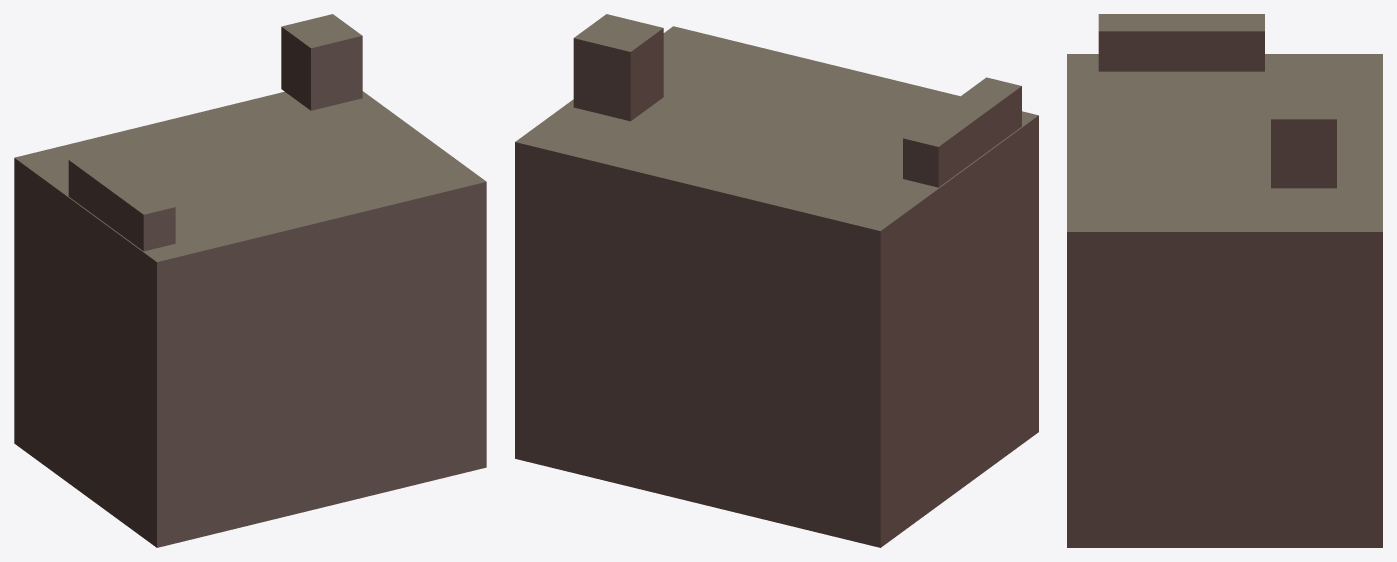
File: ns-main-street.far-facades-v3.lod2.glb
3 views of the same model, side by side, from view 1: azimuth 30°, elevation 25°; view 2: azimuth 150°, elevation 25°; view 3: azimuth 270°, elevation 25° (orthographic). The views are drawn at different scales.
Parts seen in each view (by area): view 1: ns-main-street; view 2: ns-main-street; view 3: ns-main-street.
Part boxes in pixels (x1=…): ns-main-street: x1=14, y1=14, x2=486, y2=547; ns-main-street: x1=515, y1=14, x2=1038, y2=547; ns-main-street: x1=1067, y1=14, x2=1382, y2=547.
Size of the model in its own units: 16 by 17.25 by 12.
